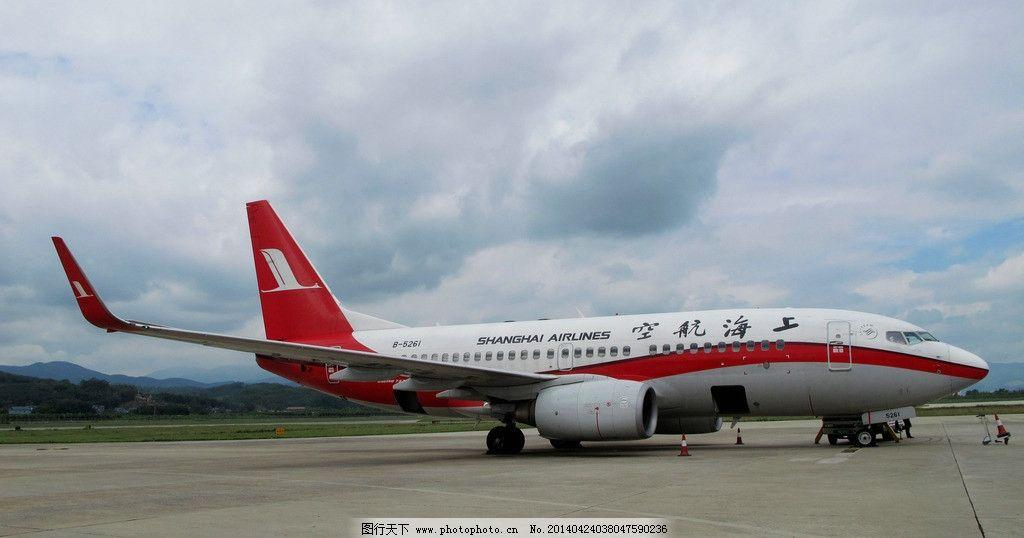airplane: (29, 197, 992, 449)
